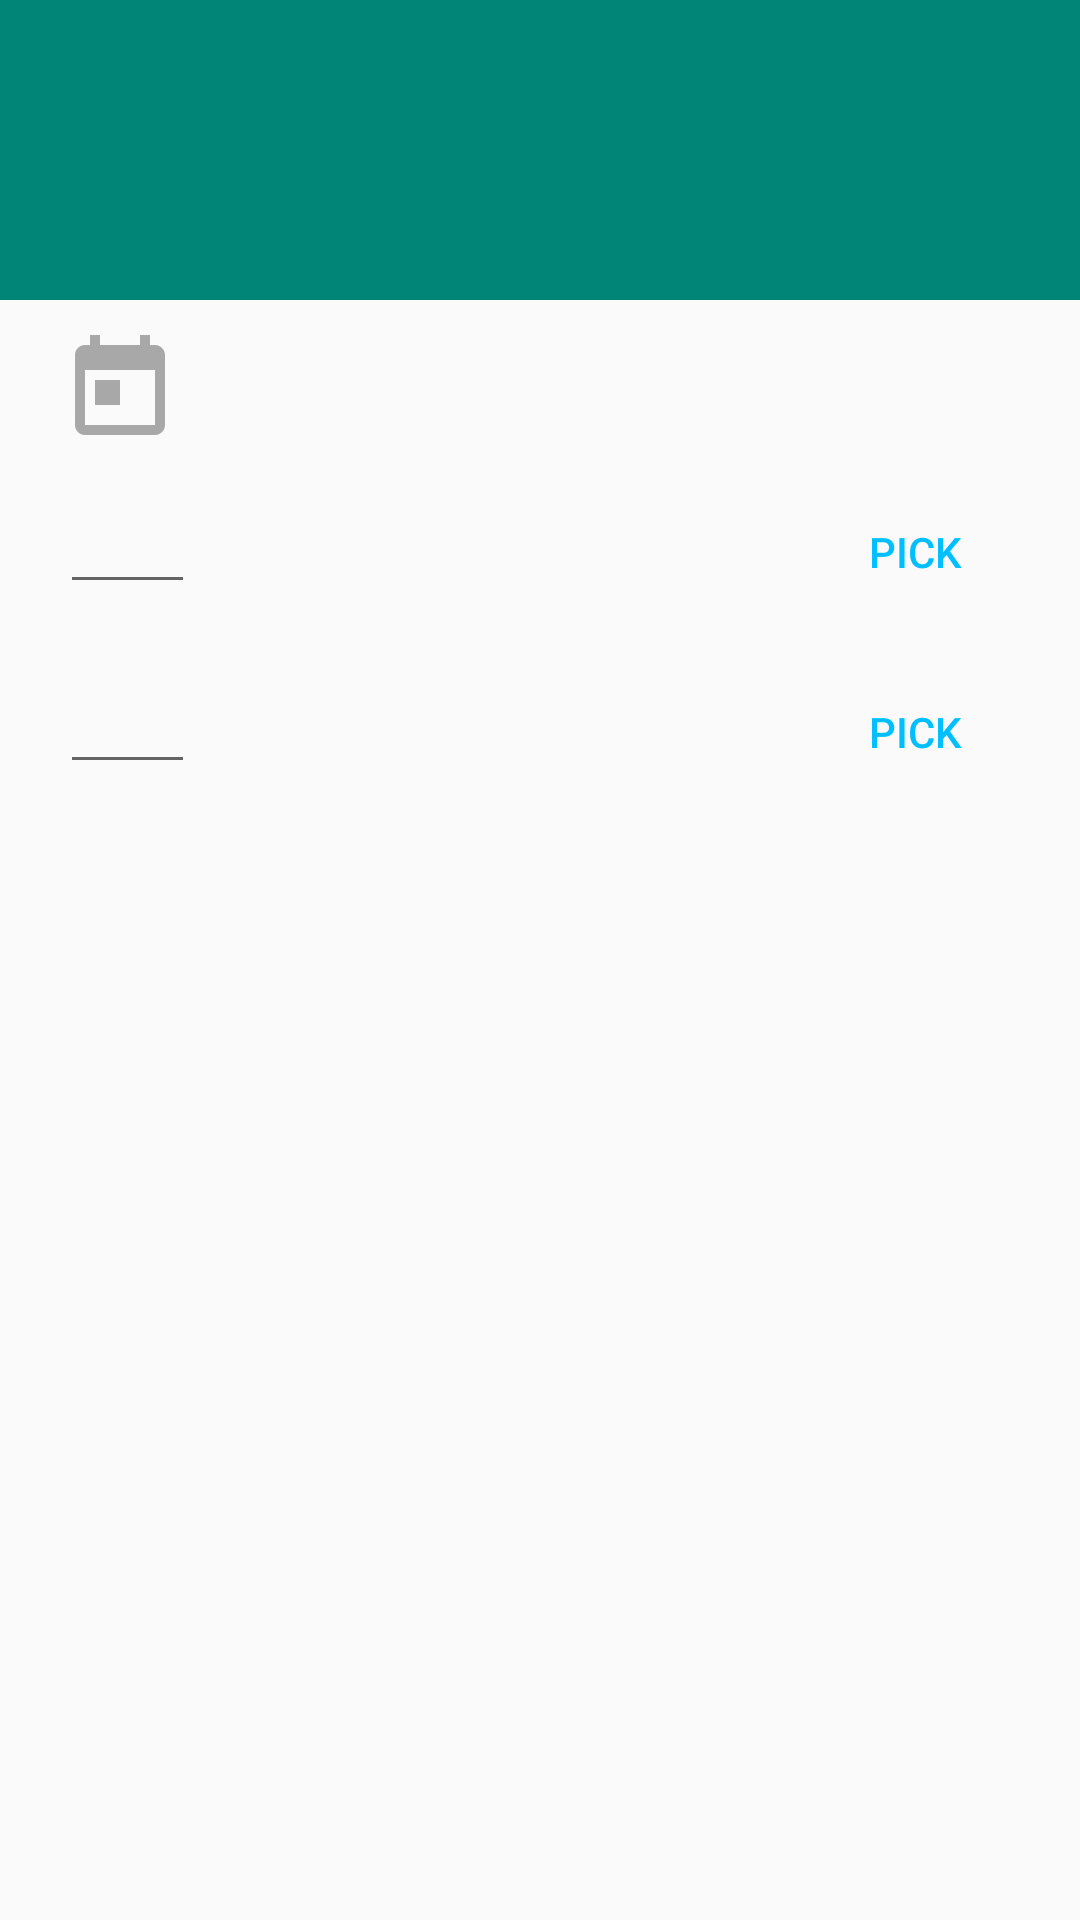

Icon bounding boxes for this 1080px×1920px phone screenshot, format (x1, y1, x2, y2):
today: (75, 335, 165, 435)
